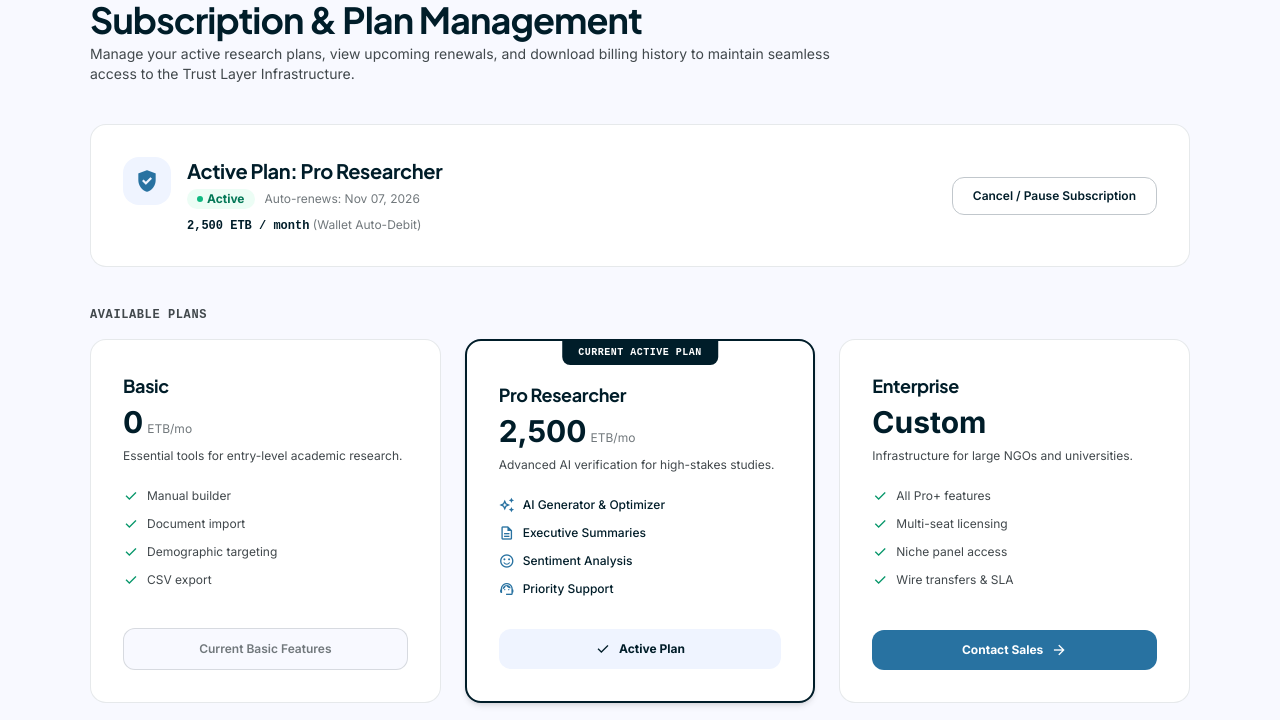
it: SubscriptionPage – cancel subscription (REH-139) › opens confirmation modal on Cancel click
Click the button "Cancel / Pause Subscription" at (1054,196), box [952,176,1157,214]
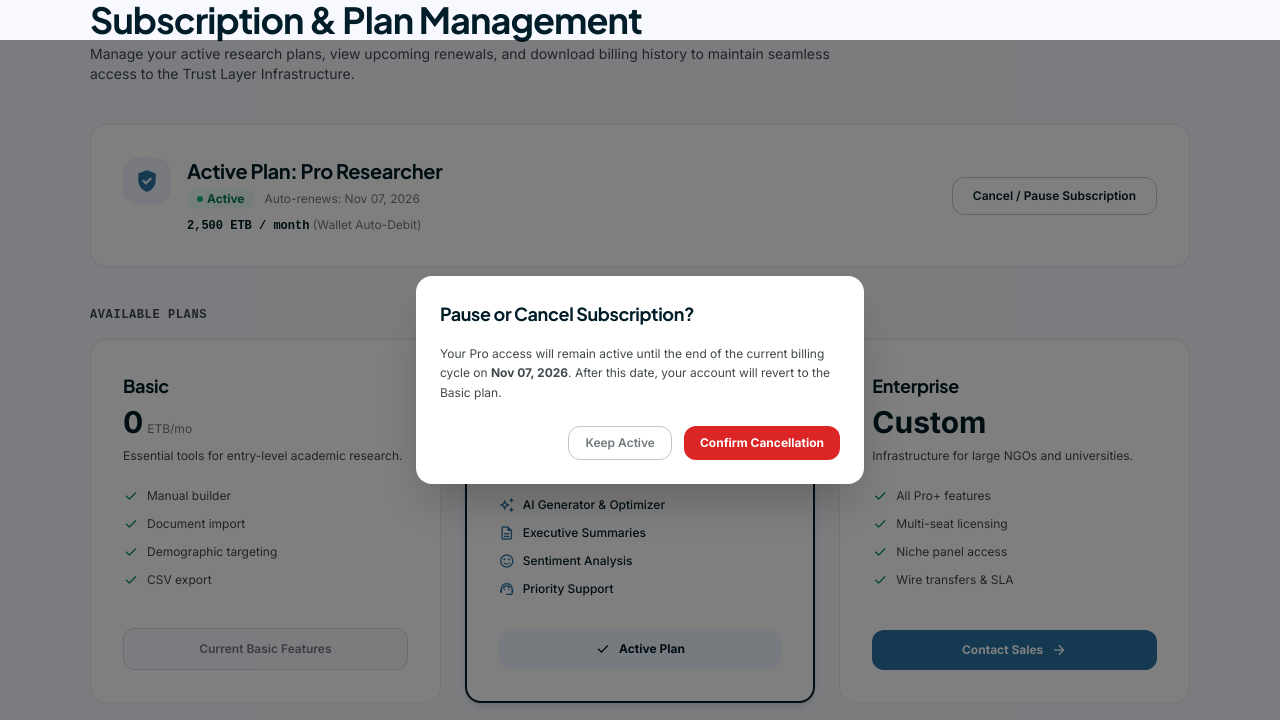
Expected: the heading "Pause or Cancel Subscription?" is shown, [440,302,694,325]
